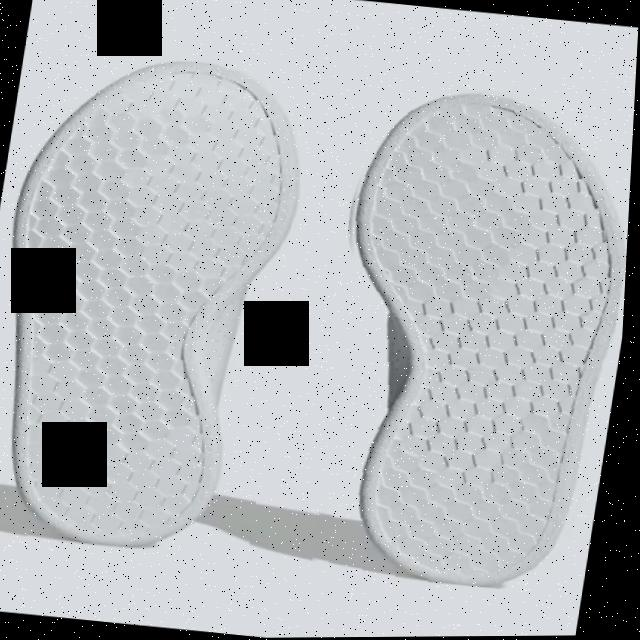shoe: (293, 72, 637, 598), (0, 40, 324, 567)
